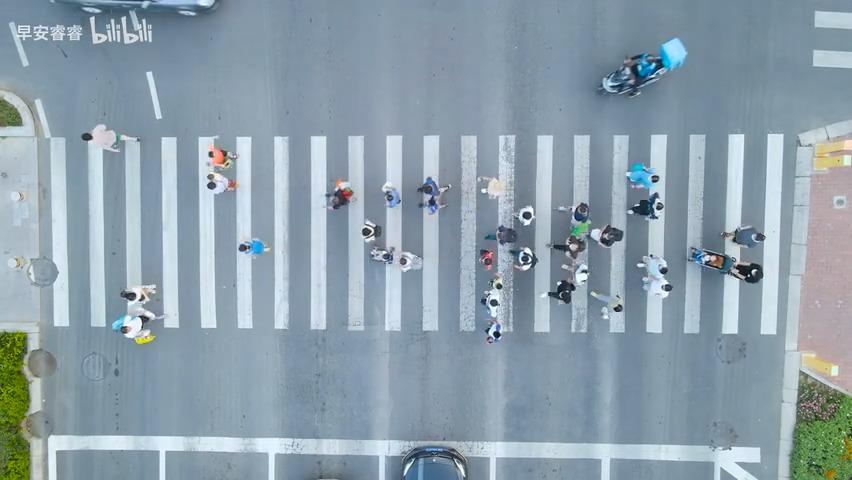Civilian: (111, 283, 167, 344), (81, 123, 140, 152), (636, 253, 673, 296), (554, 202, 591, 240), (621, 52, 663, 85), (689, 246, 735, 275), (416, 176, 451, 214), (719, 224, 766, 248), (626, 191, 663, 219), (546, 234, 586, 259), (589, 290, 623, 319), (326, 177, 354, 210), (625, 162, 659, 189), (541, 278, 575, 304), (207, 143, 238, 170), (590, 223, 623, 248), (206, 170, 239, 194), (509, 245, 538, 271), (730, 261, 763, 283), (476, 175, 505, 200), (560, 261, 589, 286), (238, 237, 270, 259), (484, 224, 517, 244), (381, 180, 401, 208), (480, 289, 500, 317), (398, 251, 422, 272), (361, 218, 381, 243), (512, 205, 535, 226), (369, 245, 394, 263), (484, 320, 502, 343), (478, 248, 494, 270)
